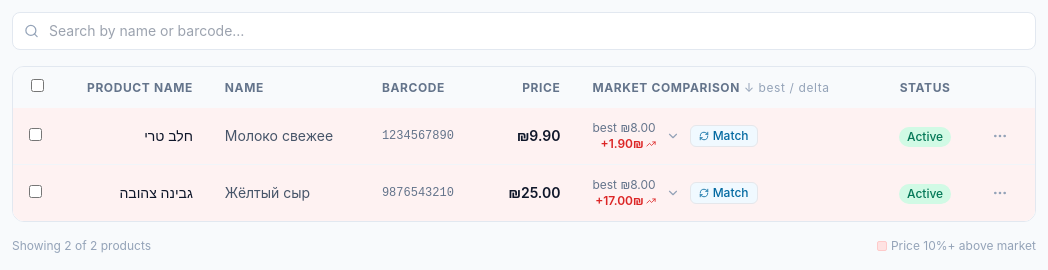
Test: ProductsTable — batch match market button › shows 'Batch match market' only when 2+ items selected AND market data present
The image size is (1048, 270).
Note: Select both items
Click the checkbox next to "חלב טרי". click: (36, 134)
box: x1=29 y1=128 x2=42 y2=141
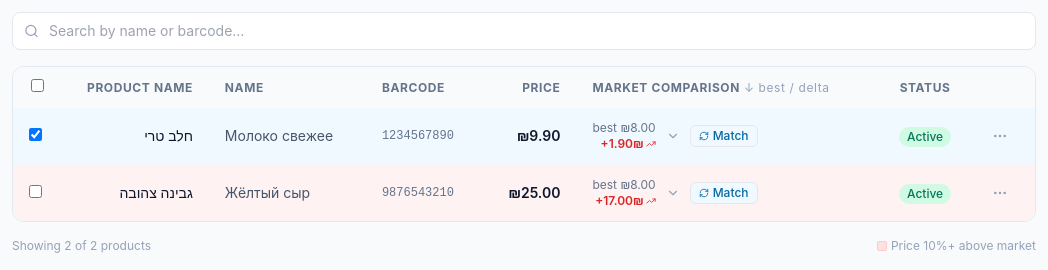
Click the checkbox next to "גבינה צהובה". click: (36, 192)
box: x1=29 y1=185 x2=42 y2=198
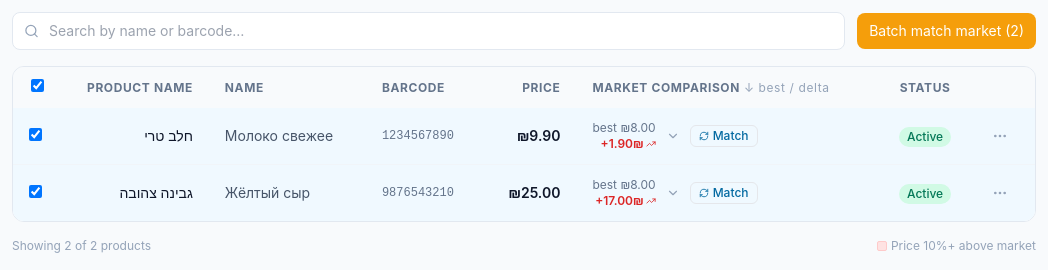
Expected: the button "Batch match market (2)" is shown, x1=857 y1=13 x2=1036 y2=49
